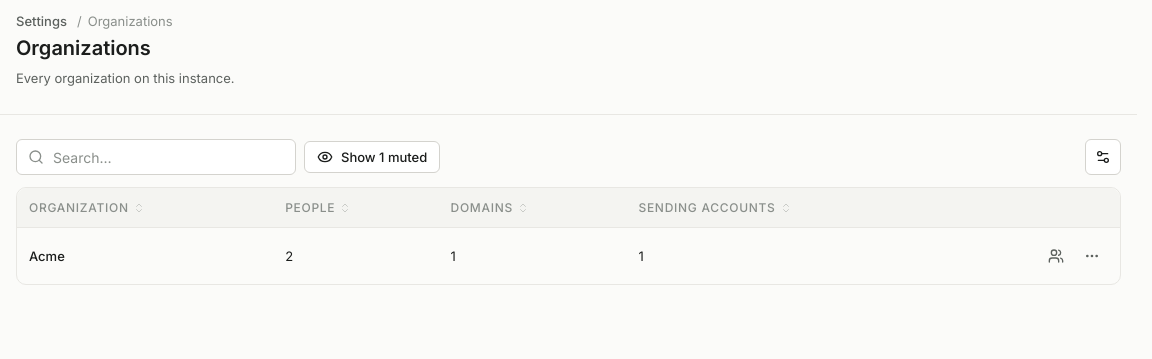
Test: InstanceOrganizations › hides muted organizations until the administrator reveals them
Expected: the text "Acme" is shown, [29, 247, 65, 265]
Expected: the text "Beta" is not shown
Click the button "Show 1 muted": (372, 157) [304, 141, 440, 173]
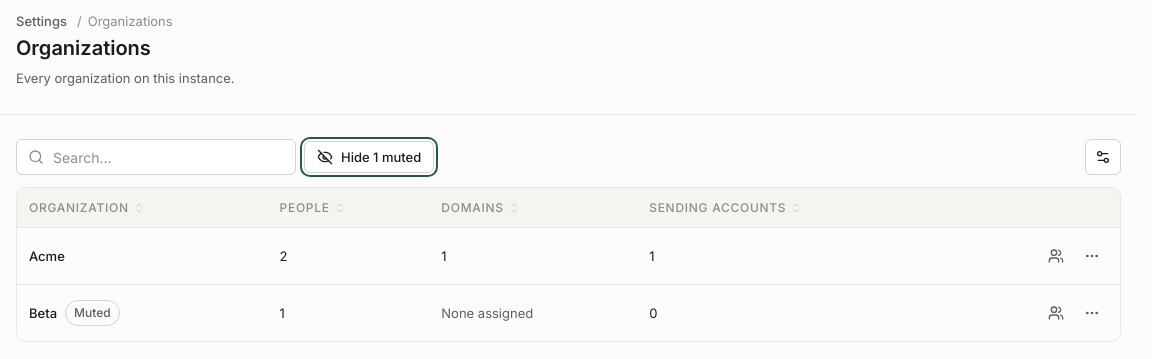
Result: the text "Beta" is shown at [29, 304, 57, 322]
Click the button "Hide 1 muted": (369, 157) [304, 141, 434, 173]
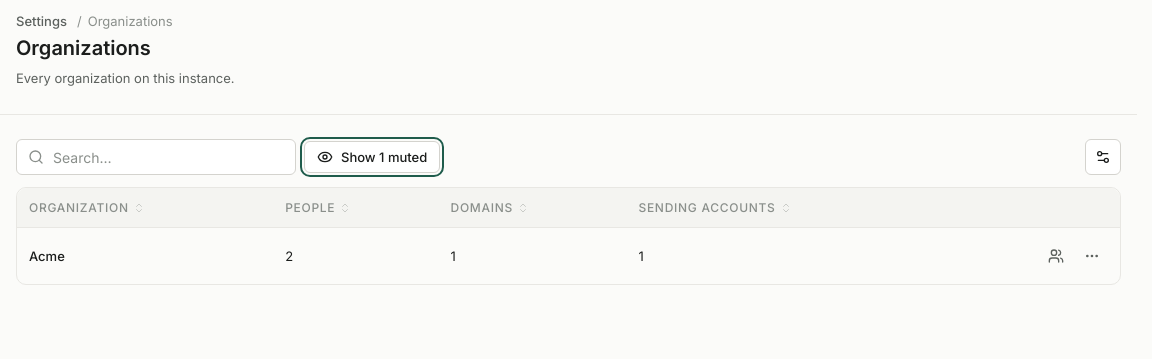
Result: the text "Beta" is gone
